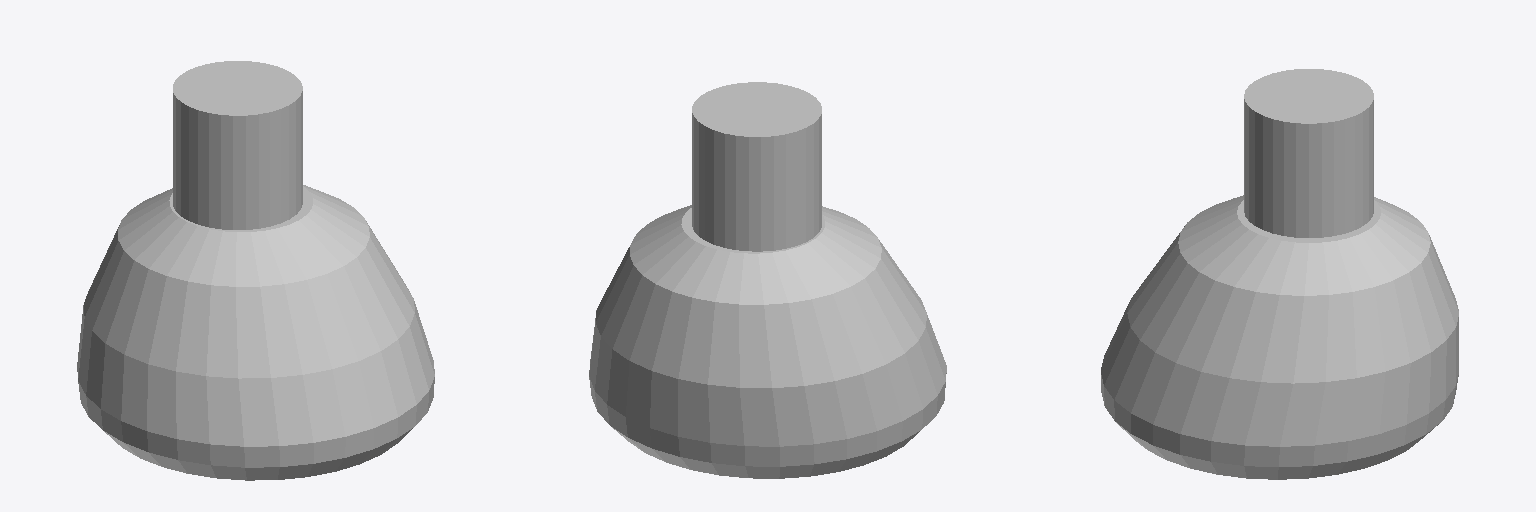
File: PieIzquierdo.obj
The picture shows the model from 3 angles: view 1: azimuth 30°, elevation 25°; view 2: azimuth 150°, elevation 25°; view 3: azimuth 270°, elevation 25°; orthographic projection.
Visible parts, largest first — view 1: Madotsuki.002; view 2: Madotsuki.002; view 3: Madotsuki.002.
Boxes of the visible parts, x1=… form: Madotsuki.002: x1=77, y1=61, x2=434, y2=480; Madotsuki.002: x1=589, y1=82, x2=946, y2=478; Madotsuki.002: x1=1101, y1=69, x2=1458, y2=479.
Bounding box in the file's own units: 0.2941 × 0.2857 × 0.2942.